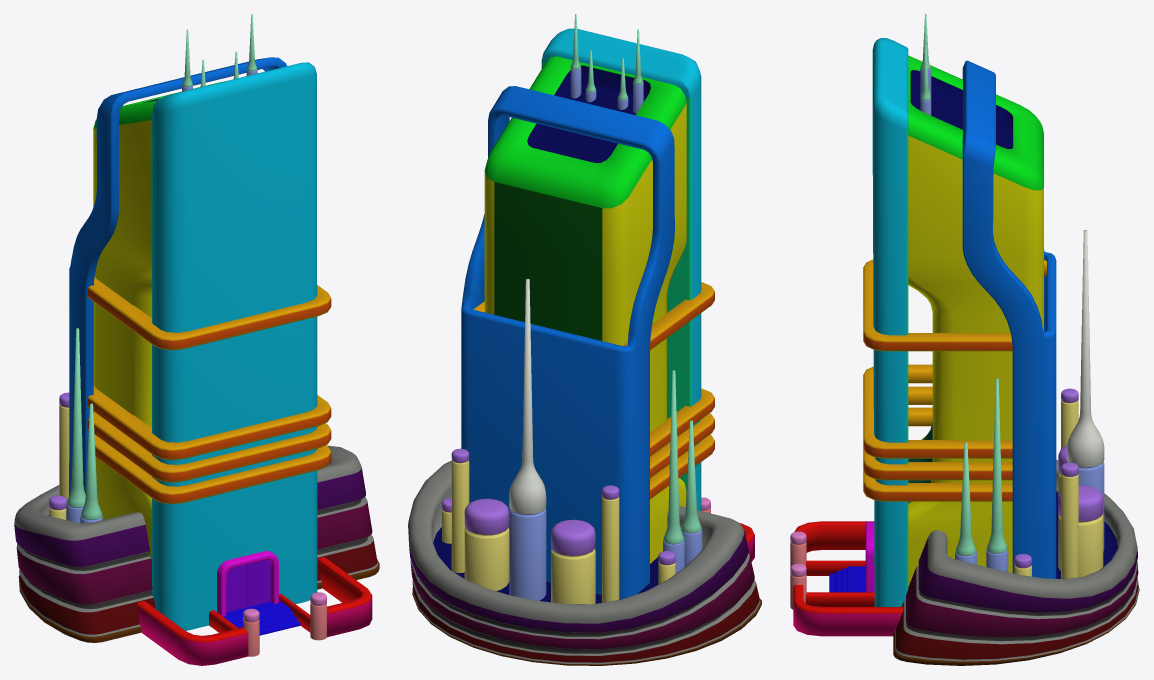
Rendered from uploads_files_4099723_SciFi+Building+A+-+FBX.fbx.
3 renders of one model, left to right at view 1: azimuth 30°, elevation 25°; view 2: azimuth 150°, elevation 25°; view 3: azimuth 270°, elevation 25°, orthographic. The views are drawn at different scales.
Parts seen in each view (by area): view 1: Cube.007; view 2: Cube.007; view 3: Cube.007.
Part boxes in pixels (x1,y1,x2,y2): Cube.007: [14, 14, 379, 665]; Cube.007: [408, 14, 761, 665]; Cube.007: [790, 14, 1139, 665].
Bounding box in the file's own units: 2315 × 4005 × 2258.
